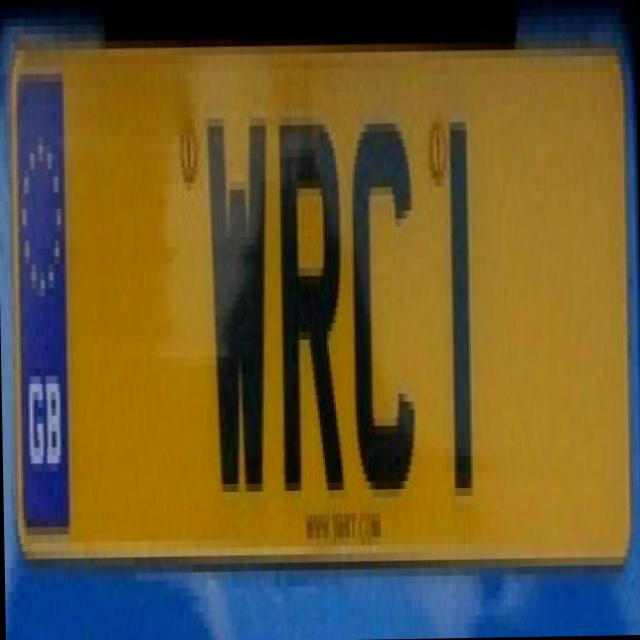LicensePlate: (1, 12, 640, 604)
